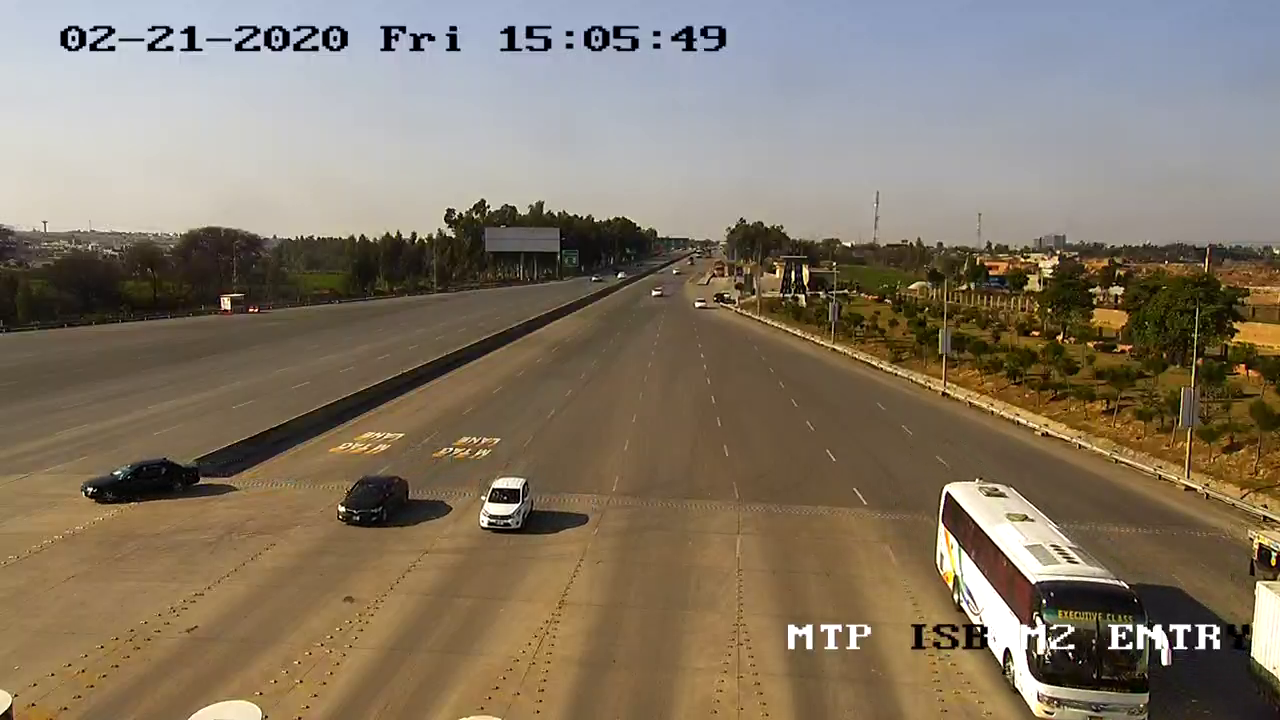f1: (324, 464, 414, 539), (466, 472, 540, 541)
f4: (934, 468, 1167, 720)
